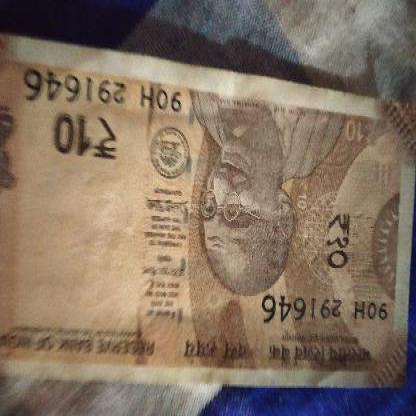New10Front: (0, 31, 408, 387)
